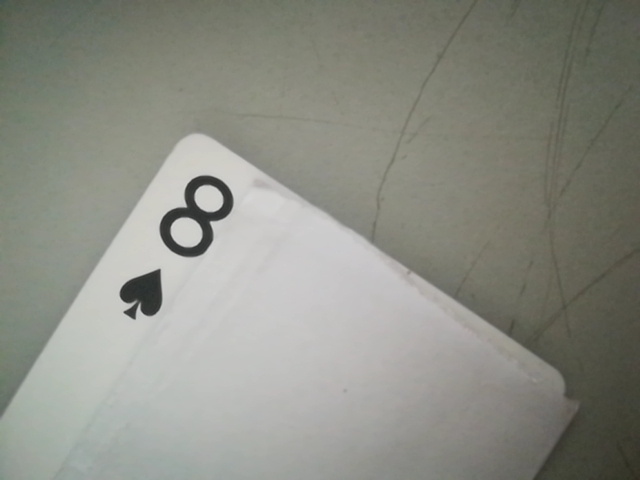ht 8: (112, 158, 254, 324)
